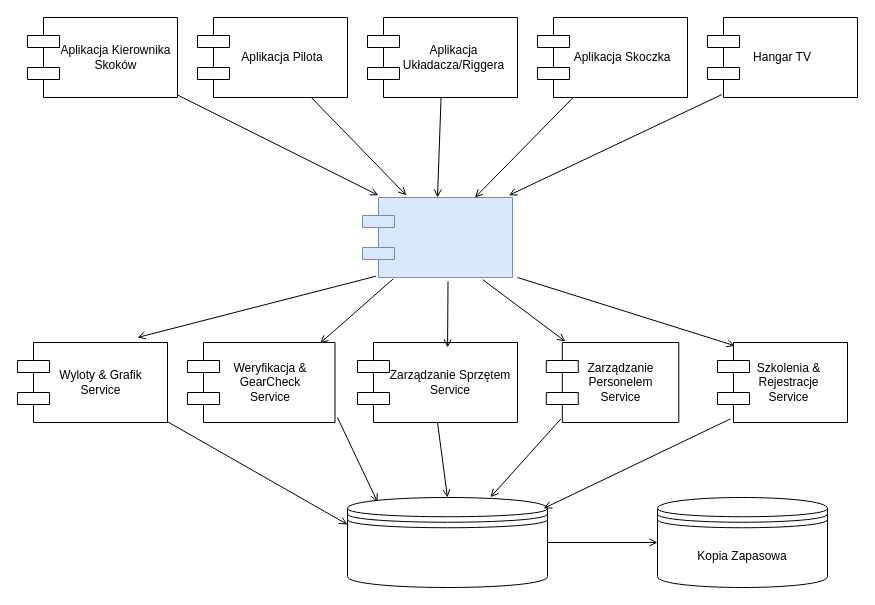
The diagram is 875 pixels wide and 605 high, and some of its shapes have lost their labels. The centre of each missing label's shape, as x and y in pixels:
"API Gateway & Auth" belongs at pixel 437 237.
"Baza danych" belongs at pixel 447 542.
